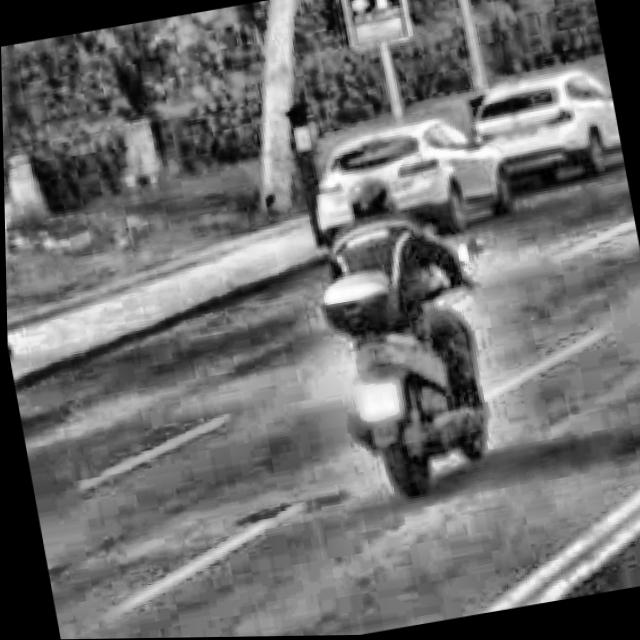motorcycle: (287, 221, 539, 515)
